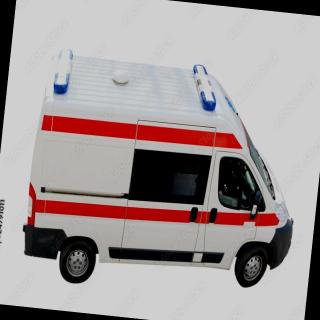Ambulance: (3, 16, 316, 308)
